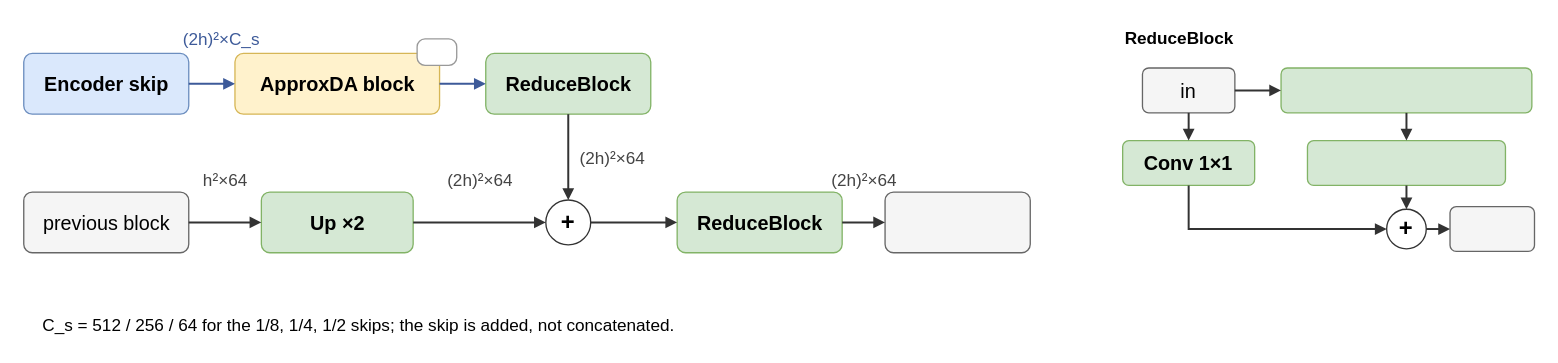
Some shapes in this 1558 by 363 pixel diagram are drawn without their labels. The centre of each missing label's shape, as x and y in pixels:
(b): the point at 436,51
Conv 3×3·BN: the point at 1405,162
Conv 3×3·BN·ReLU: the point at 1406,90
next block: the point at 957,222
ReLU: the point at 1491,228
